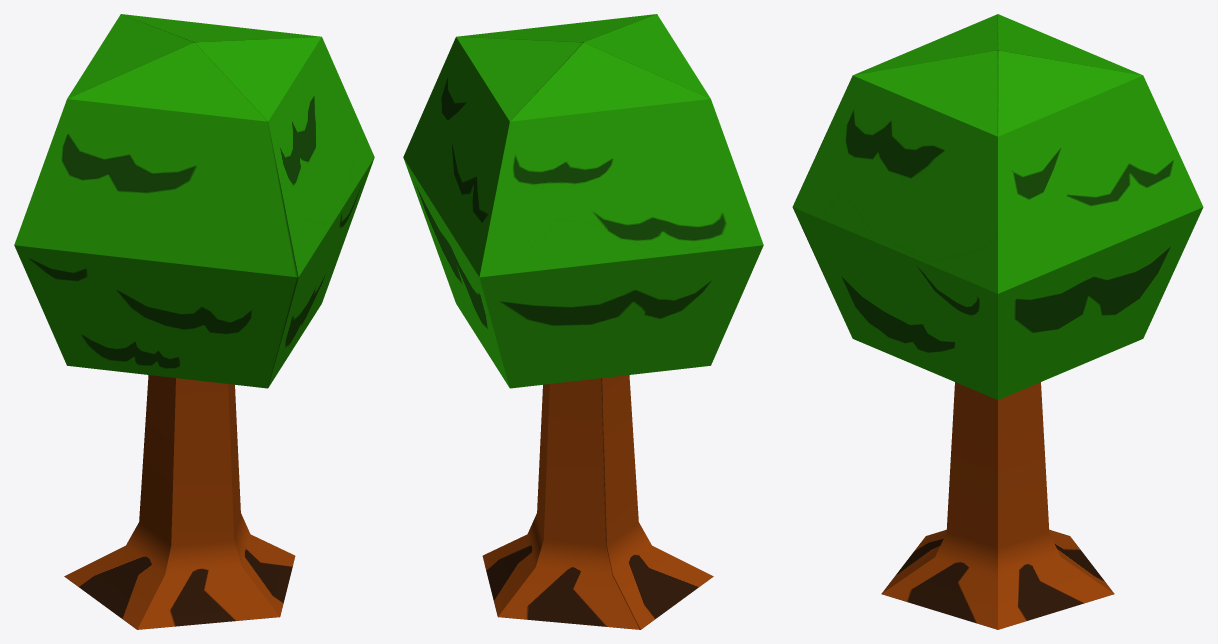
Rendered from tree2.glb.
3 renders of one model, left to right at view 1: azimuth 30°, elevation 25°; view 2: azimuth 150°, elevation 25°; view 3: azimuth 270°, elevation 25°, orthographic.
Parts seen in each view (by area): view 1: pCylinder4; view 2: pCylinder4; view 3: pCylinder4.
Boxes of the visible parts, box(x1,y1,x2,y2) form: pCylinder4: box(14, 14, 374, 629); pCylinder4: box(403, 14, 763, 629); pCylinder4: box(792, 14, 1203, 629).
Bounding box in the file's own units: 9.59 × 13.68 × 9.59.
1 material, 1 textured.
